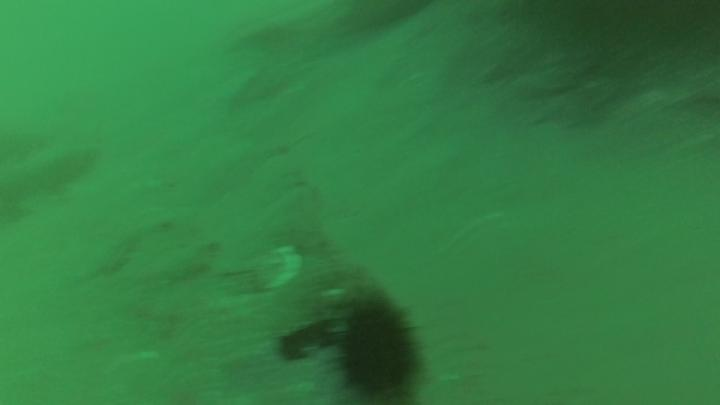echinus: (336, 292, 422, 398)
